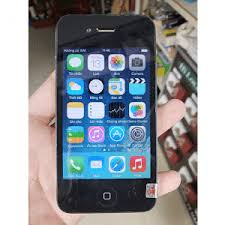iphone: (51, 11, 157, 215)
iphone4: (51, 12, 157, 216)
